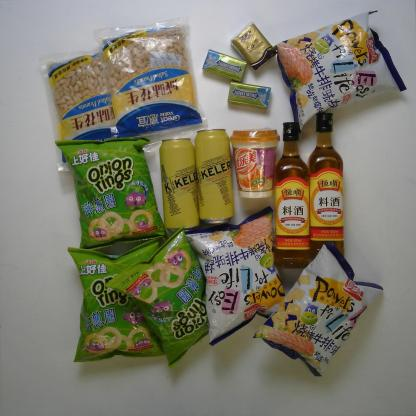Alcohol: (193, 128, 238, 225), (158, 137, 198, 232)
Dried Fruit: (91, 16, 210, 141), (36, 47, 121, 173)
Gum: (202, 46, 248, 83), (226, 79, 272, 110)
Instant Drink: (228, 129, 281, 199)
Puffed Food: (253, 240, 384, 378), (274, 9, 408, 133), (104, 224, 208, 370), (183, 206, 286, 348), (55, 137, 167, 250), (66, 236, 161, 364)
Seasoner: (272, 122, 311, 268), (308, 112, 345, 261)
Tissue: (228, 23, 282, 72)
